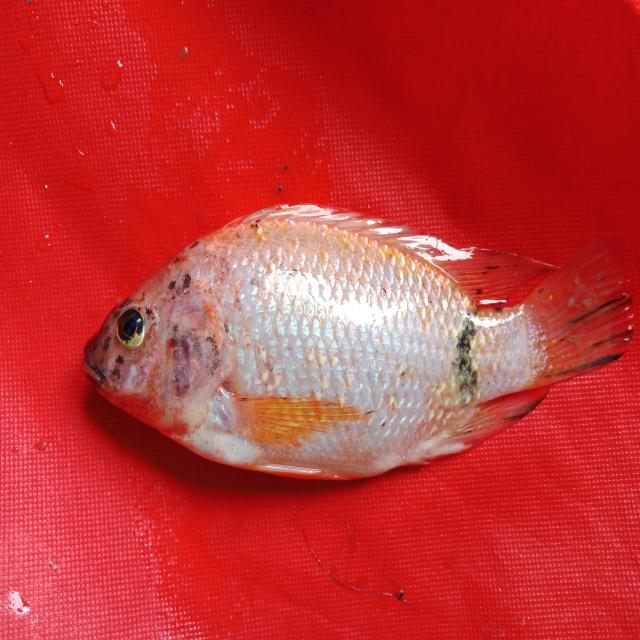ikan: (80, 194, 589, 488)
